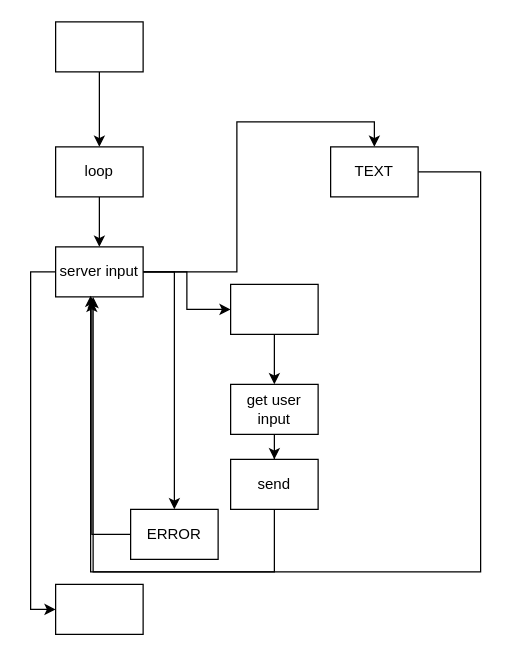
Image size: 513x656. Some labels were removed from this diagram. The centre of each missing label's shape, as x and y in pixels:
"END" belongs at (x=98, y=608).
"GO" belongs at (x=273, y=308).
"start" belongs at (x=98, y=46).
